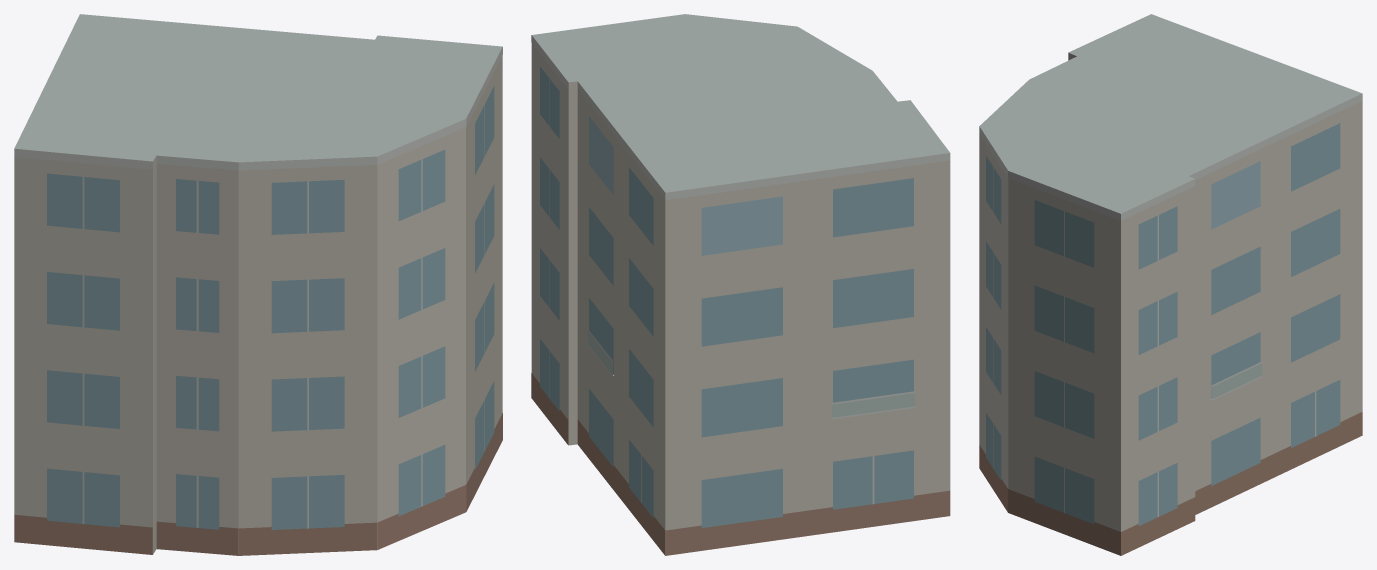
The model's file is survey-upis-32954004.glb.
The picture shows the model from 3 angles, left to right: view 1: azimuth 30°, elevation 25°; view 2: azimuth 150°, elevation 25°; view 3: azimuth 270°, elevation 25°; orthographic projection. The views are drawn at different scales.
Parts seen in each view (by area): view 1: survey-upis-32954004.tmp; view 2: survey-upis-32954004.tmp; view 3: survey-upis-32954004.tmp.
Part boxes in pixels (bbox=[...]): survey-upis-32954004.tmp: bbox=[14, 14, 502, 555]; survey-upis-32954004.tmp: bbox=[531, 14, 950, 555]; survey-upis-32954004.tmp: bbox=[979, 14, 1362, 555].
Size of the model in its own units: 14.67 by 11.7 by 11.89.
